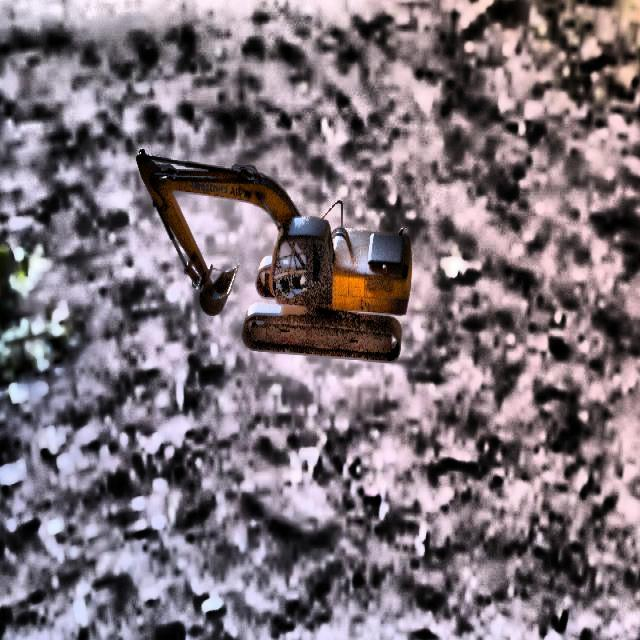excavator: (136, 148, 412, 362)
